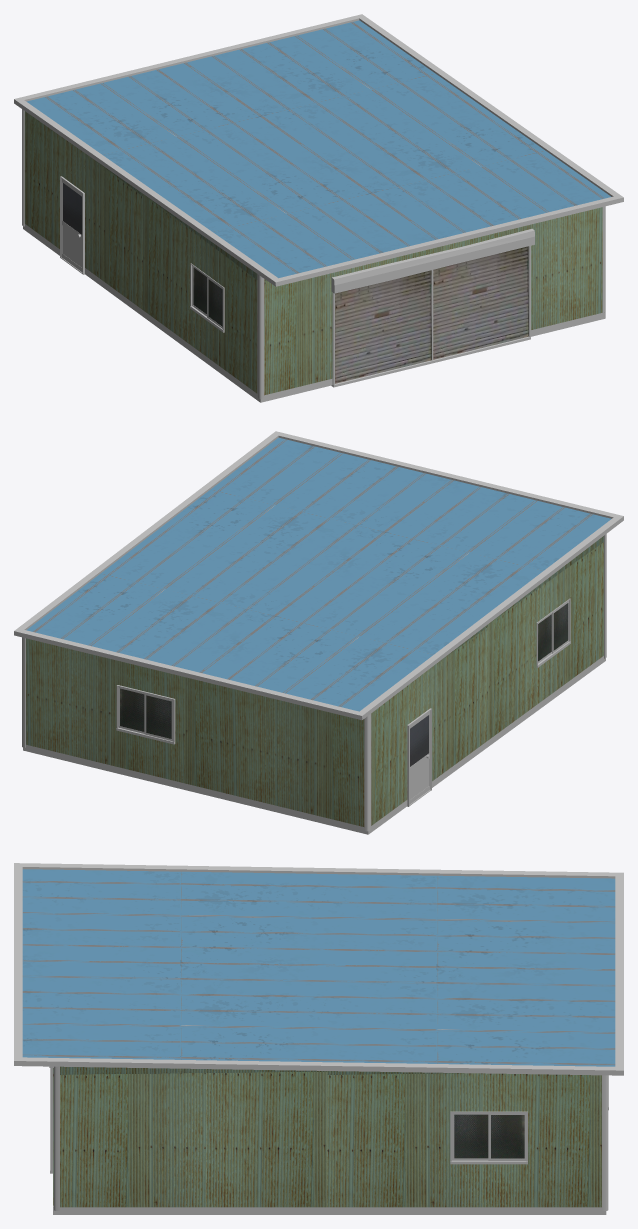
Rendered from JpHouse_Garage04a.fbx.
The picture shows the model from 3 angles, top to bottom: view 1: azimuth 30°, elevation 25°; view 2: azimuth 150°, elevation 25°; view 3: azimuth 270°, elevation 25°; orthographic projection. The views are drawn at different scales.
Visible parts, largest first — view 1: JpHouse_Garage04a; view 2: JpHouse_Garage04a; view 3: JpHouse_Garage04a.
Part boxes in pixels (box(x1,y1,x2,y2)): JpHouse_Garage04a: box(14, 14, 623, 402); JpHouse_Garage04a: box(14, 431, 623, 834); JpHouse_Garage04a: box(14, 863, 623, 1214).
Bounding box in the file's own units: 10.24 × 3.76 × 13.29.
